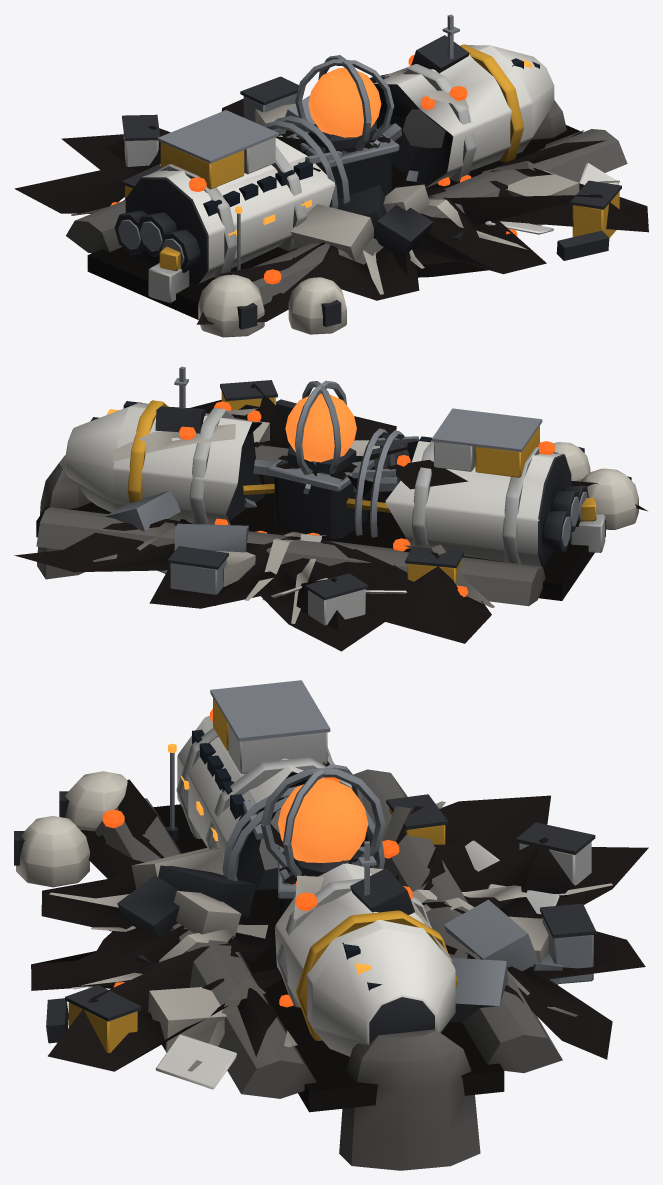
Rendered from crash-site-luna.glb.
The picture shows the model from 3 angles, top to bottom: view 1: azimuth 30°, elevation 25°; view 2: azimuth 150°, elevation 25°; view 3: azimuth 270°, elevation 25°; orthographic projection. The views are drawn at different scales.
Parts seen in each view (by area): view 1: site_crash_site_luna_body, site_crash_site_luna_ruin, site_crash_site_luna_core; view 2: site_crash_site_luna_body, site_crash_site_luna_ruin, site_crash_site_luna_core; view 3: site_crash_site_luna_body, site_crash_site_luna_ruin, site_crash_site_luna_core.
Part boxes in pixels (x1,y1,x2,y2): site_crash_site_luna_body: [66, 14, 627, 337]; site_crash_site_luna_ruin: [14, 35, 648, 324]; site_crash_site_luna_core: [295, 55, 394, 150]; site_crash_site_luna_body: [36, 366, 638, 625]; site_crash_site_luna_ruin: [14, 383, 647, 651]; site_crash_site_luna_core: [285, 380, 356, 474]; site_crash_site_luna_body: [14, 680, 596, 1170]; site_crash_site_luna_ruin: [31, 708, 648, 1071]; site_crash_site_luna_core: [260, 764, 385, 877].
Bounding box in the file's own units: 5.72 × 2.23 × 5.05.
